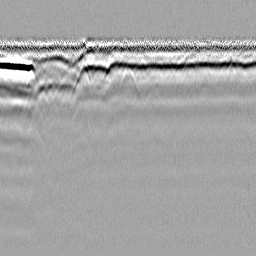cavity: (118, 69, 140, 96)
